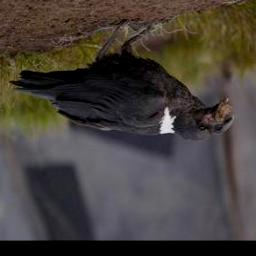Crow: (6, 15, 235, 146)
